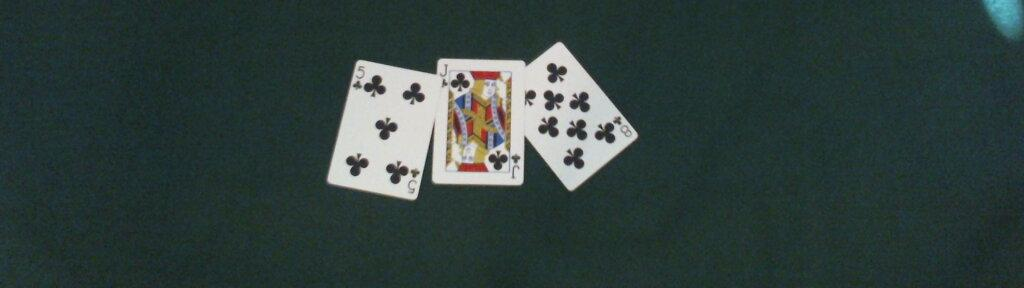eight: (525, 42, 638, 192)
five: (327, 58, 444, 201)
jack: (432, 59, 527, 187)
